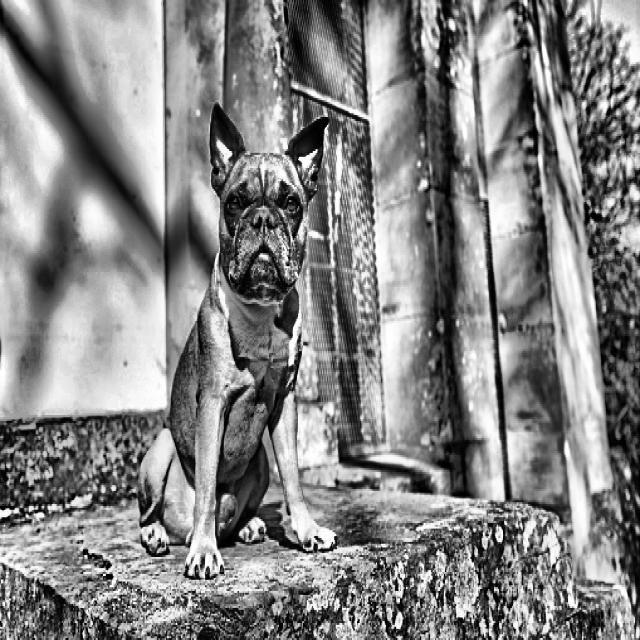bulldog: (194, 80, 333, 339)
